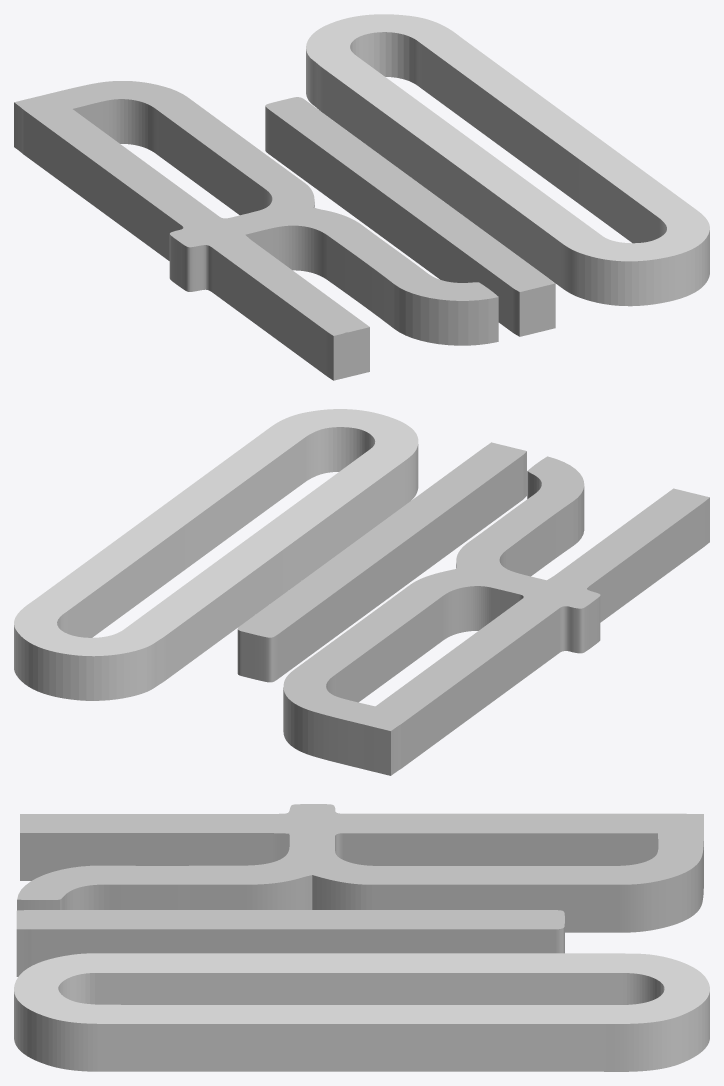
Rendered from RioCreative-01a.gltf.
The picture shows the model from 3 angles, top to bottom: view 1: azimuth 30°, elevation 25°; view 2: azimuth 150°, elevation 25°; view 3: azimuth 270°, elevation 25°; orthographic projection. The views are drawn at different scales.
Visible parts, largest first — view 1: R; view 2: R; view 3: R.
Boxes of the visible parts, bbox=[...] form: R: bbox=[14, 14, 709, 380]; R: bbox=[14, 409, 709, 775]; R: bbox=[14, 804, 709, 1071].
Size of the model in its own units: 1.84 by 0.1888 by 2.46.
Materials: 2 (1 with a texture image).
